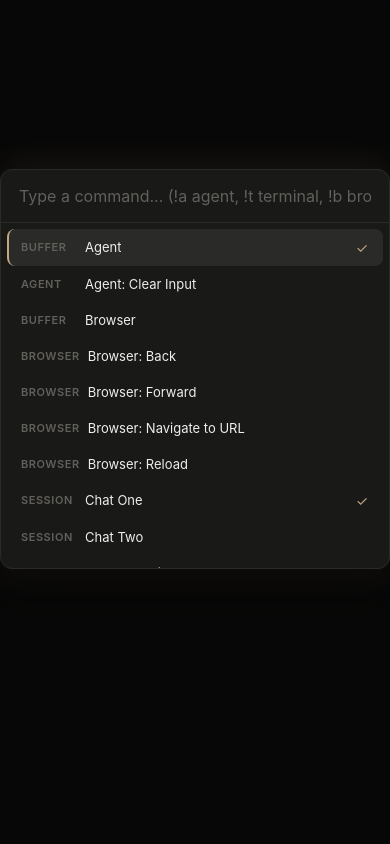
Test: CommandPalette fuzzy search › shows empty state for unmatched query
In the field with placeholder "Type a command... (!a agent, !t terminal, !b browser)": (195, 196) [1, 170, 389, 222], type "zzzzz"
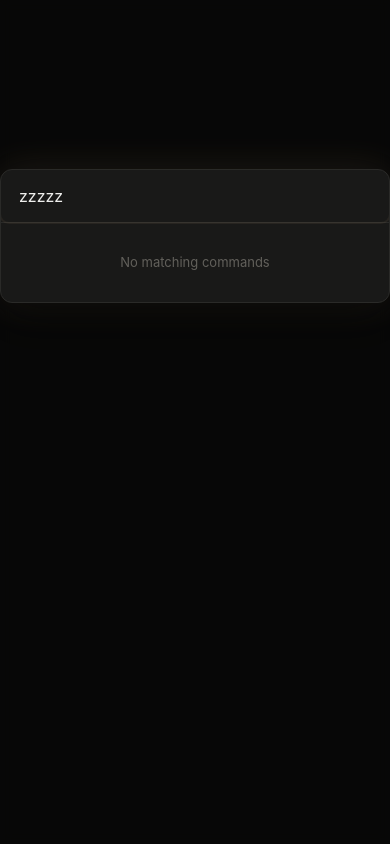
Now the text "No matching commands" is shown, box [120, 254, 270, 270]
